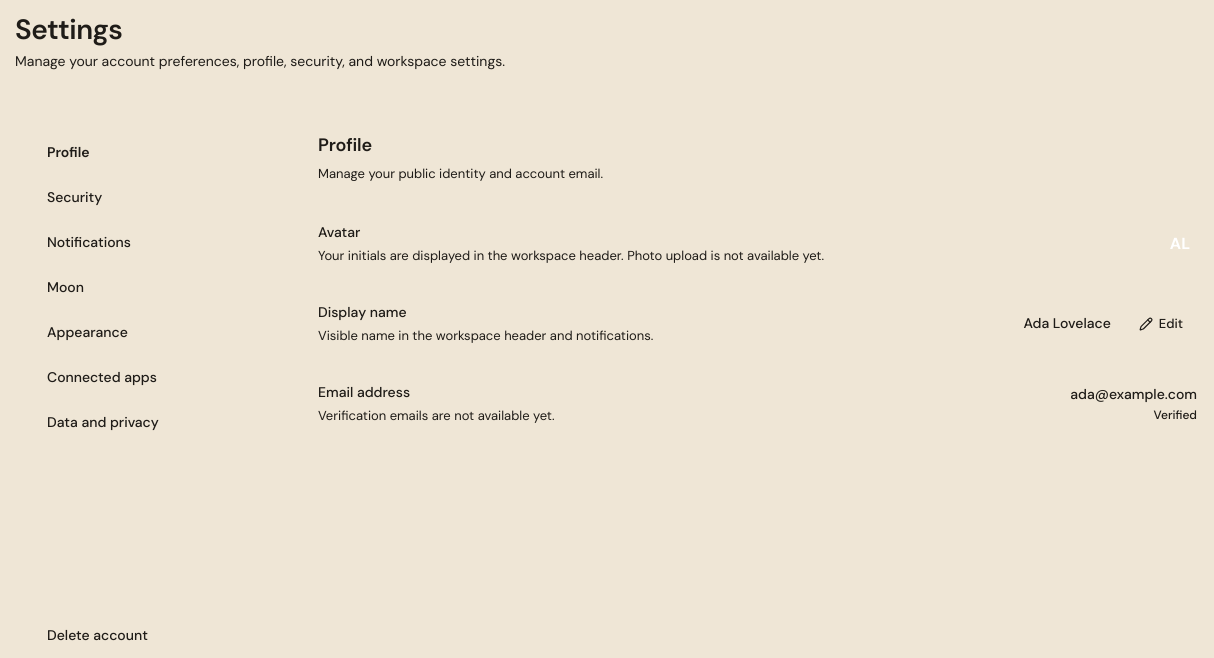
Test case: Settings Hub — Phase 1 › Display Name Inline Edit › swaps to inline input with Save and Cancel when Edit is clicked
Click the button with aria-label "Edit Display name": coordinates (1161, 324) [1125, 308, 1197, 340]
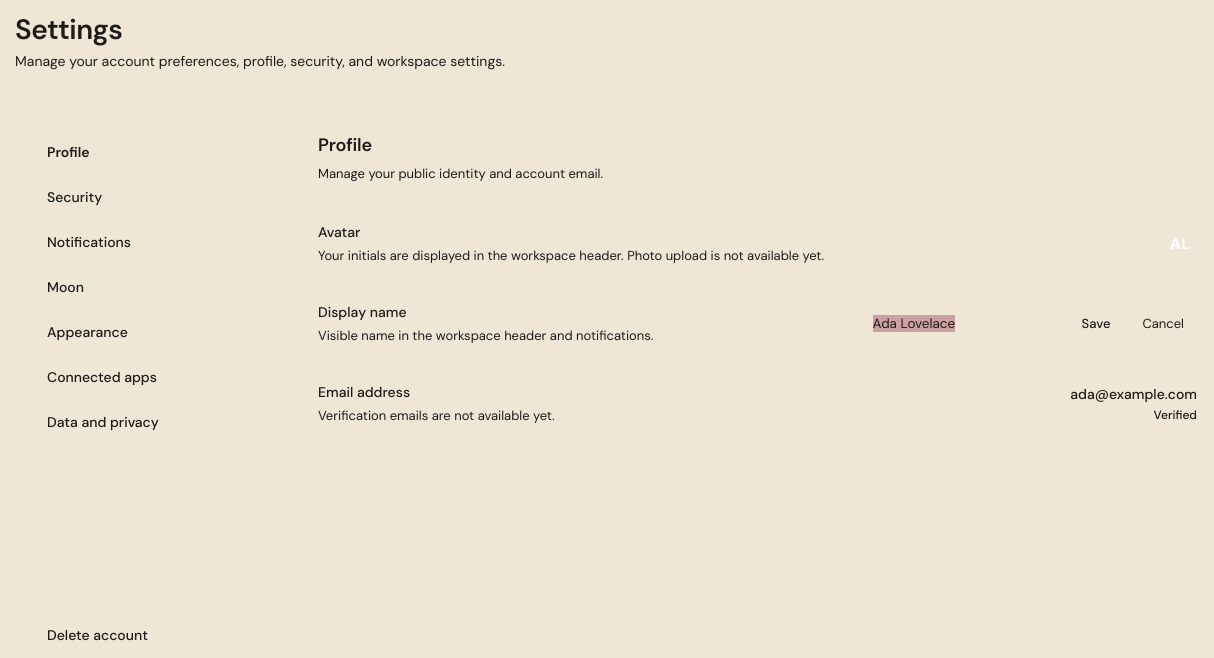
Expected: the field labelled "Display name" holds "Ada Lovelace", [860, 307, 1060, 341]
Expected: the button "Save" is shown, [1068, 307, 1123, 341]
Expected: the button "Cancel" is shown, [1129, 307, 1197, 341]
